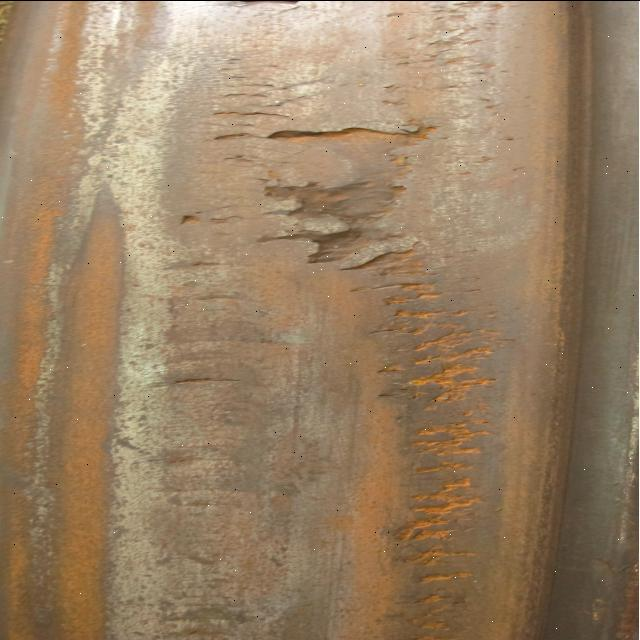hot crack: (375, 320, 503, 565), (158, 371, 254, 391), (202, 105, 300, 122), (168, 209, 250, 229), (176, 290, 260, 308), (170, 258, 248, 273)
